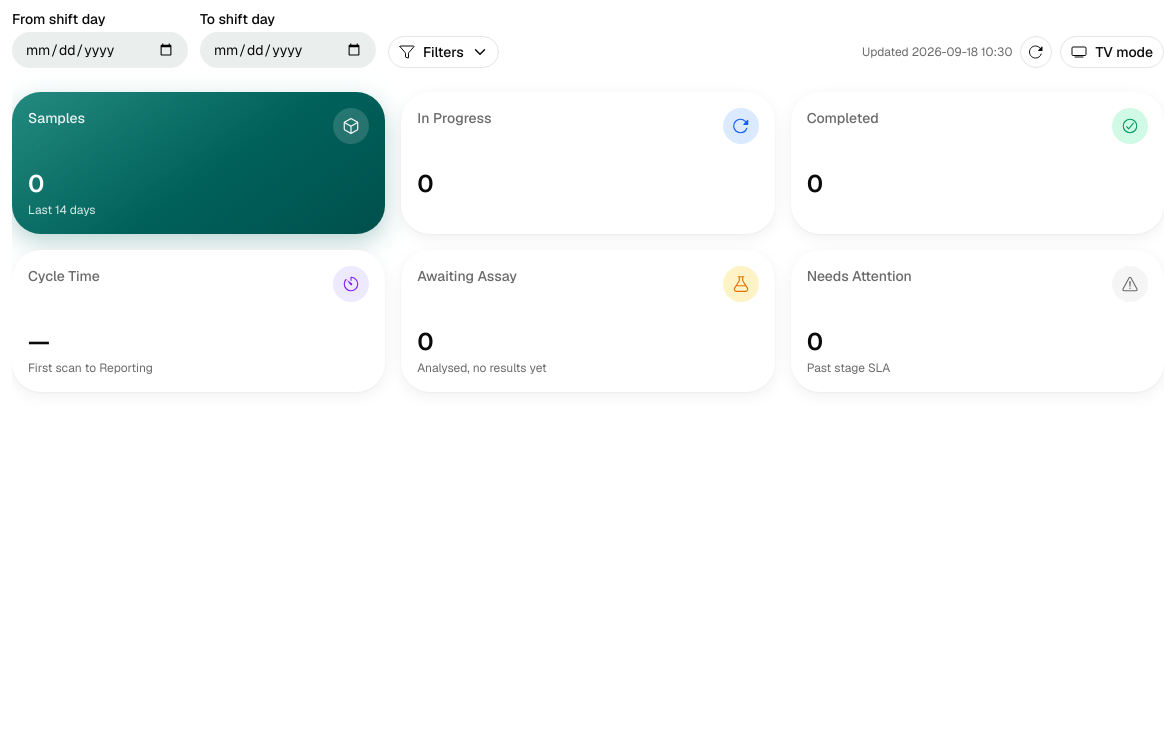
Test: dashboard filters › names an applied filter by its code, not by its kind or its id
The image size is (1164, 732).
Click the button "Filters".
click(443, 52)  # box [388,36,499,68]
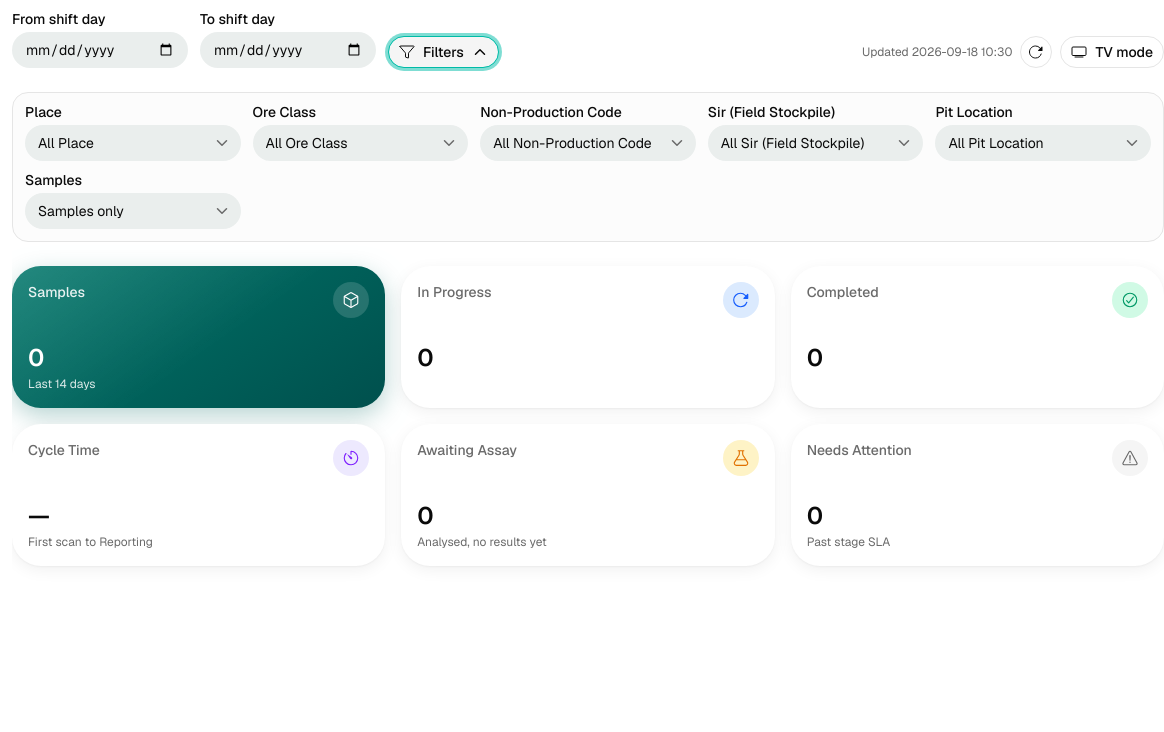
Click the dropdown labelled "All Place".
click(133, 143)  # box [25,125,241,161]
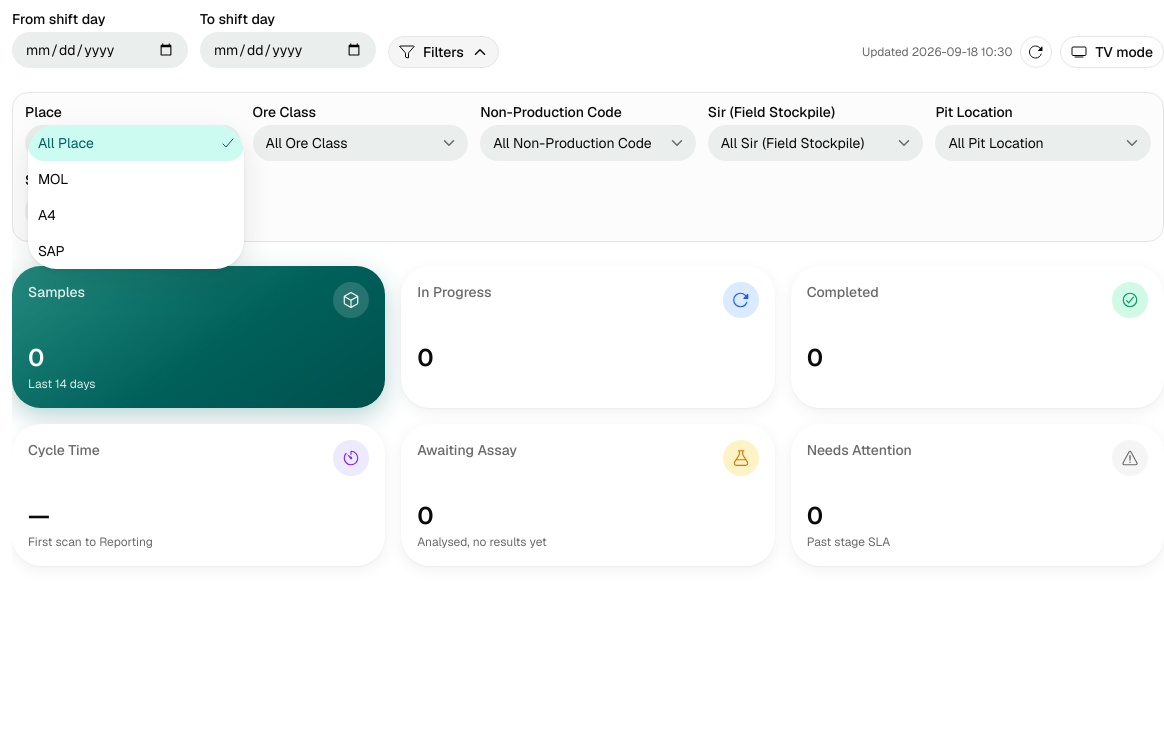
Click the option "MOL".
click(53, 179)  # box [38,170,68,188]
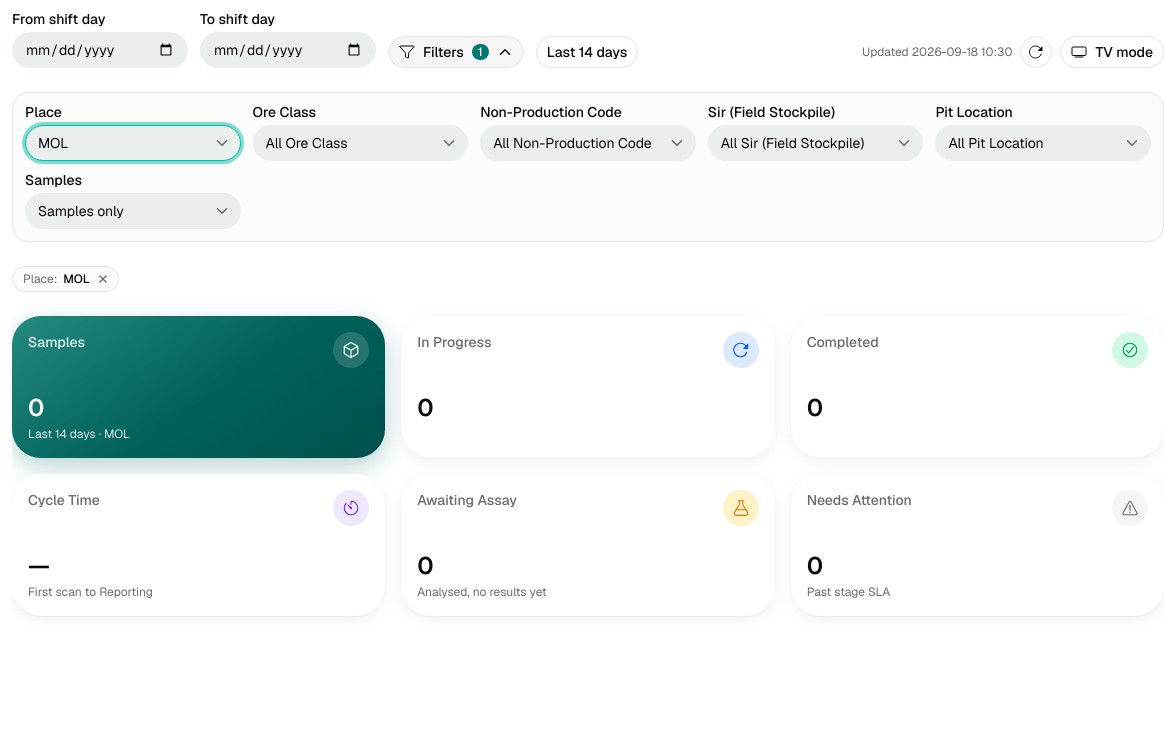
Now the button named "Remove the Place filter" shows "MOL", box [12,266,119,292]
